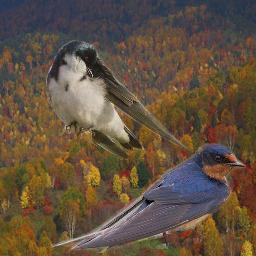Swallow: (51, 142, 246, 253), (43, 39, 190, 162)
